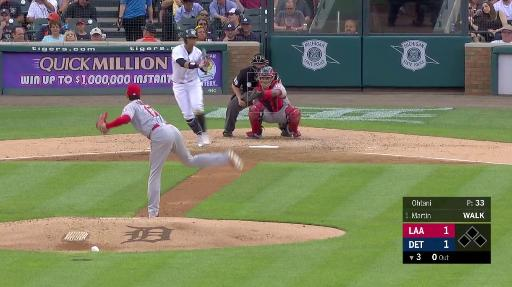pitcher: (97, 82, 245, 218)
